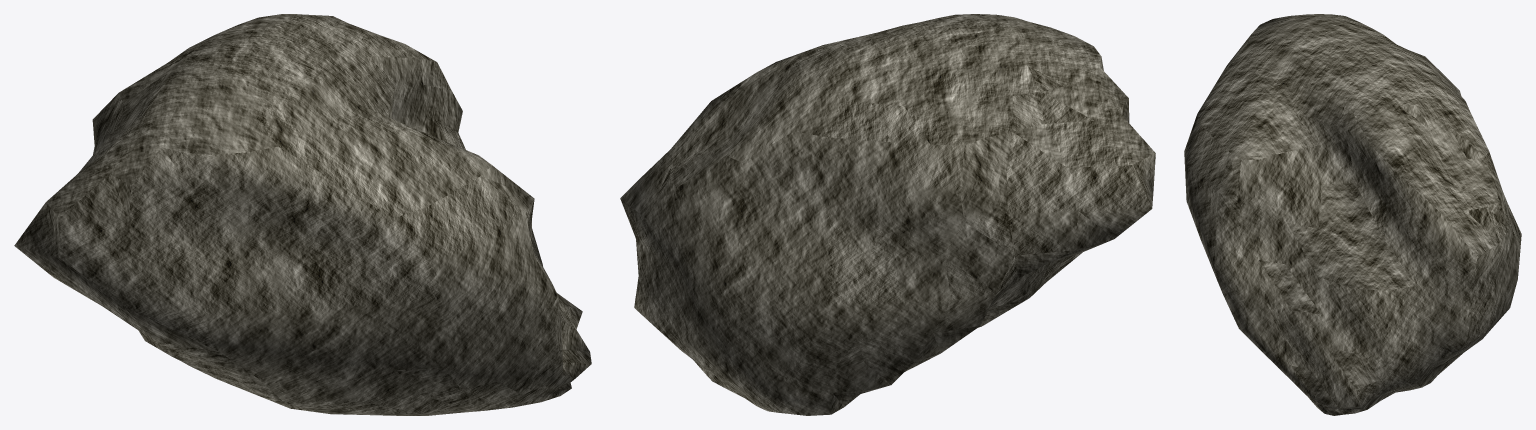
File: asteroid001.FBX
3 views of the same model, side by side, from view 1: azimuth 30°, elevation 25°; view 2: azimuth 150°, elevation 25°; view 3: azimuth 270°, elevation 25° (orthographic). The views are drawn at different scales.
Visible parts, largest first — view 1: Sphere001; view 2: Sphere001; view 3: Sphere001.
Boxes of the visible parts, box(x1,y1,x2,y2) form: Sphere001: box(14, 14, 591, 415); Sphere001: box(620, 14, 1155, 415); Sphere001: box(1184, 14, 1521, 415).
Size of the model in its own units: 28.16 by 20 by 20.9.
